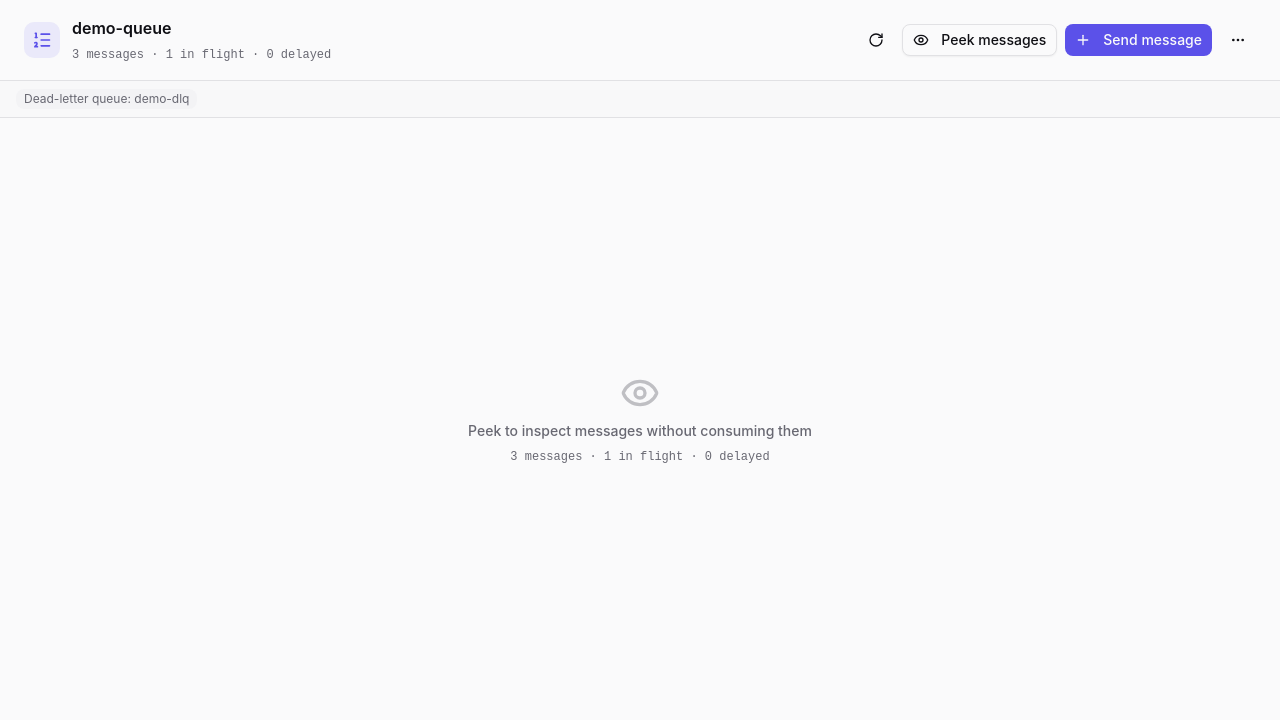
Test: QueueView › deletes a message from peek list and excludes it from restore
This screenshot has width=1280, height=720.
Click the button "Peek messages" at x=980, y=40, box x1=902 y1=24 x2=1057 y2=56
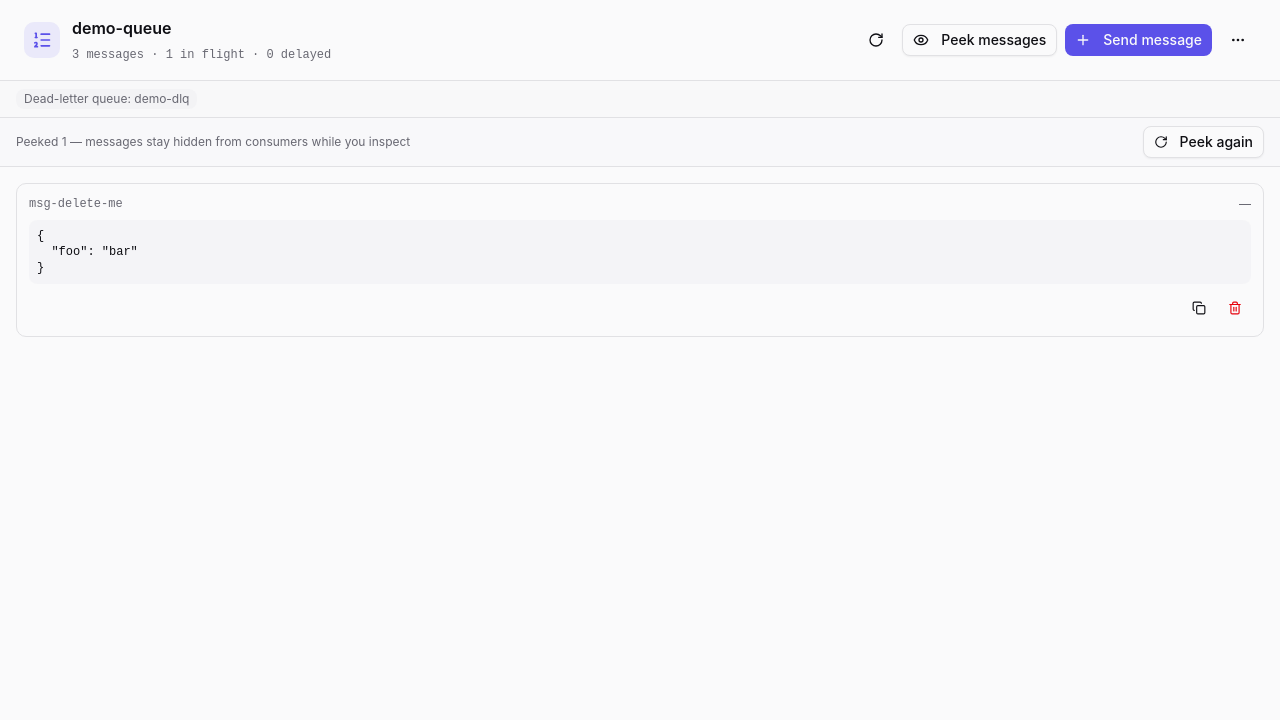
Check: the text "msg-delete-me" is shown, box x1=29 y1=196 x2=123 y2=212
Click the button named "Delete message" at x=1235, y=308, box x1=1219 y1=292 x2=1251 y2=324
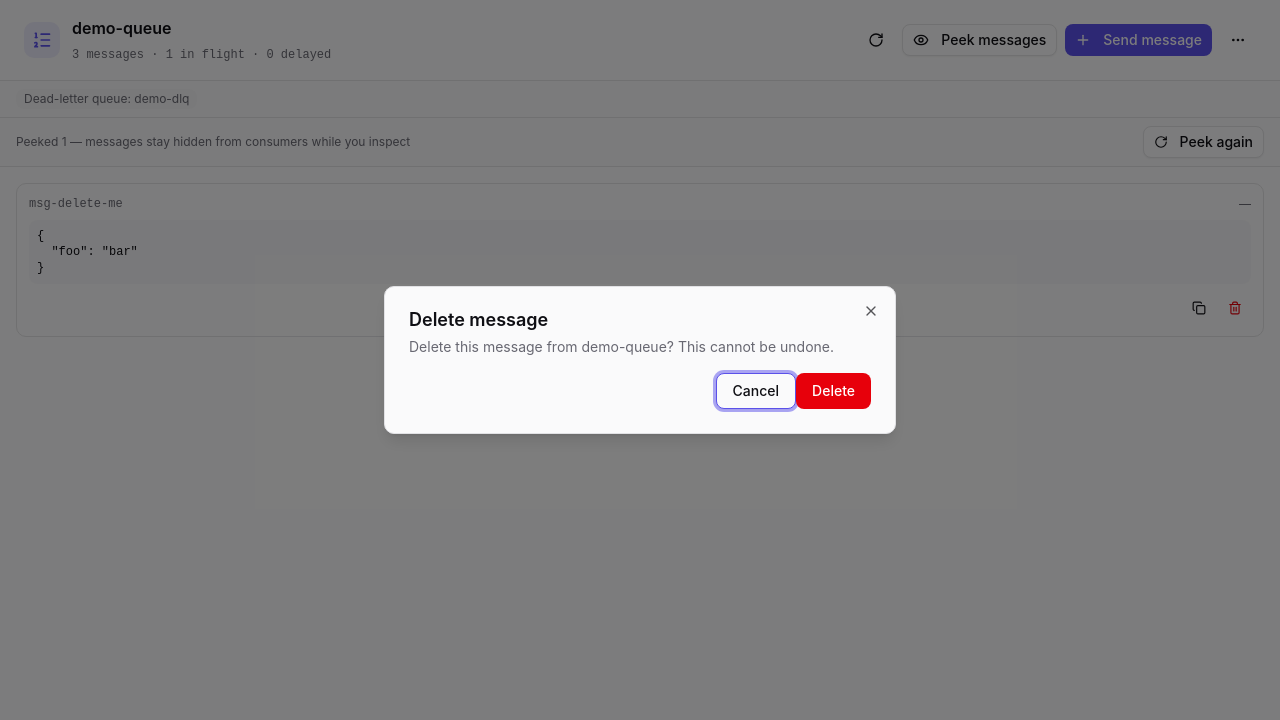
Click the button "Delete" at x=834, y=391, box x1=796 y1=373 x2=871 y2=409
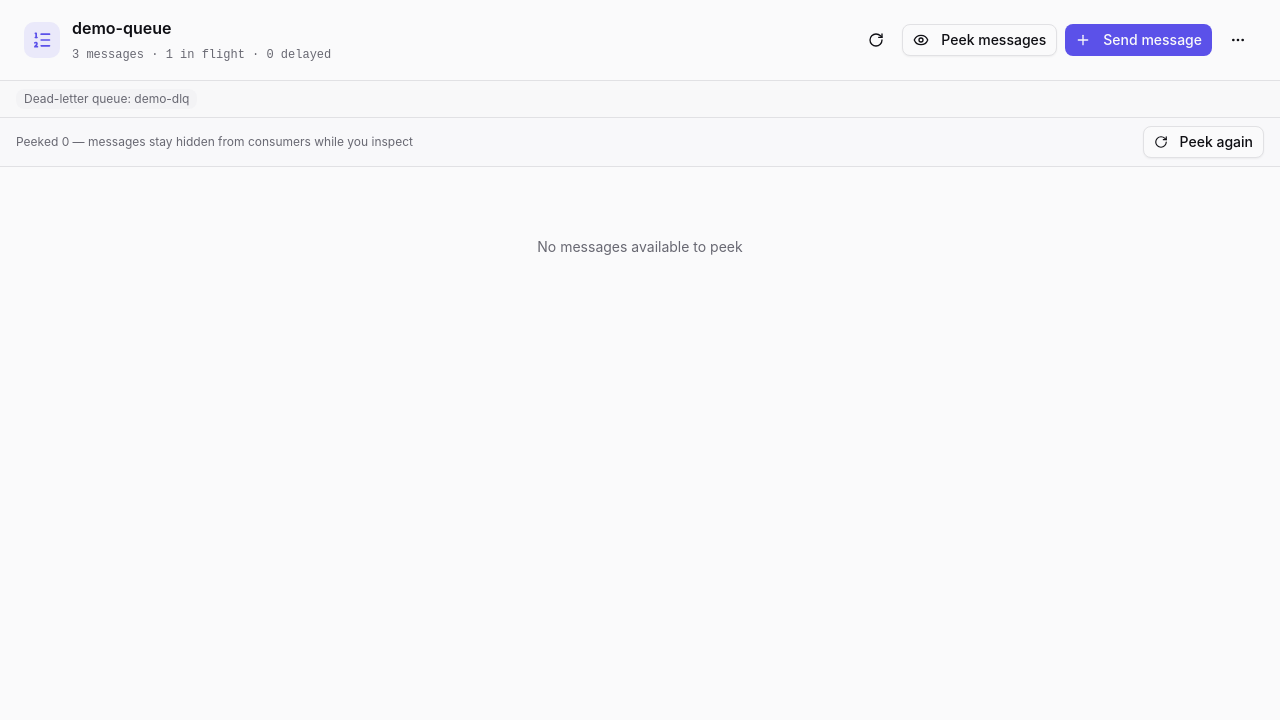
Check: the text "msg-delete-me" is gone
